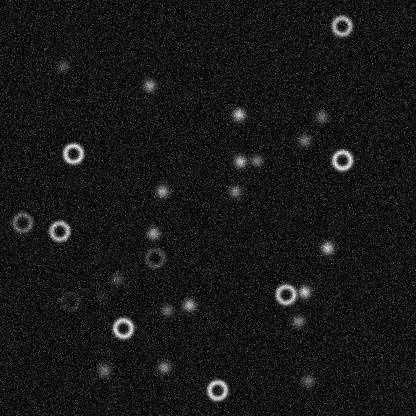Ring: (330, 148, 354, 172), (143, 245, 167, 269), (205, 378, 229, 402), (47, 218, 71, 242), (58, 288, 82, 312), (329, 13, 353, 37), (61, 141, 85, 165), (111, 316, 135, 340), (273, 282, 297, 306), (10, 210, 34, 234)
Spot: (55, 57, 71, 73), (231, 153, 247, 169), (248, 152, 264, 168), (296, 132, 312, 148), (141, 77, 157, 93), (230, 106, 246, 122), (180, 296, 196, 312), (93, 288, 109, 304), (155, 359, 171, 375), (299, 372, 315, 388), (158, 302, 174, 318), (319, 239, 335, 255), (313, 108, 329, 124), (96, 361, 112, 377), (289, 313, 305, 329), (154, 183, 170, 199), (145, 225, 161, 241), (108, 270, 124, 286), (226, 183, 242, 199), (296, 283, 312, 299)
